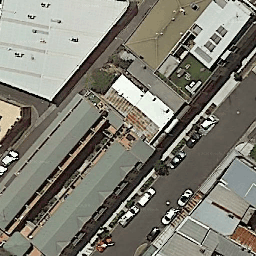car: (119, 206, 139, 225), (138, 189, 156, 206), (177, 188, 194, 206), (97, 238, 116, 253), (170, 152, 187, 168), (186, 132, 203, 148), (162, 208, 179, 224), (2, 151, 19, 165), (147, 226, 162, 241), (202, 115, 217, 129), (1, 167, 7, 176)
